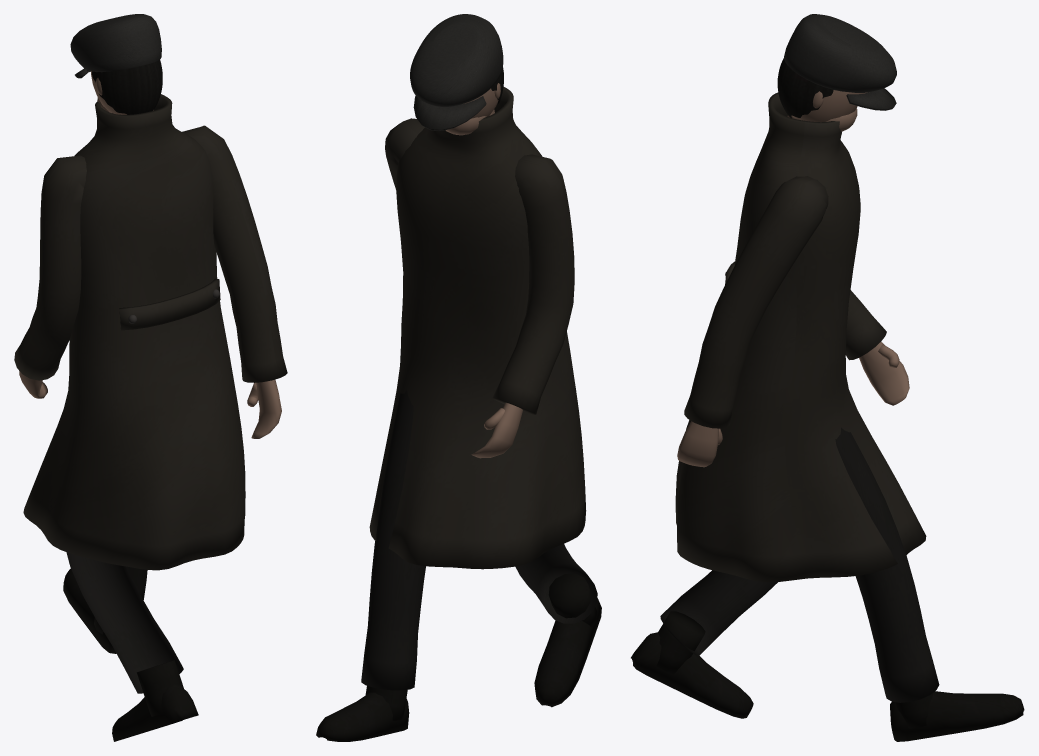
The model's file is walker-man-coat.glb.
The picture shows the model from 3 angles, left to right: view 1: azimuth 30°, elevation 25°; view 2: azimuth 150°, elevation 25°; view 3: azimuth 270°, elevation 25°; orthographic projection. The views are drawn at different scales.
Parts seen in each view (by area): view 1: walker-man-coat-body; view 2: walker-man-coat-body; view 3: walker-man-coat-body.
Part boxes in pixels (x1,y1,x2,y2): walker-man-coat-body: (14, 14, 287, 741); walker-man-coat-body: (316, 14, 601, 741); walker-man-coat-body: (631, 14, 1024, 741).
Bounding box in the file's own units: 0.5264 × 1.76 × 0.8759.
7 materials, 5 textured.
